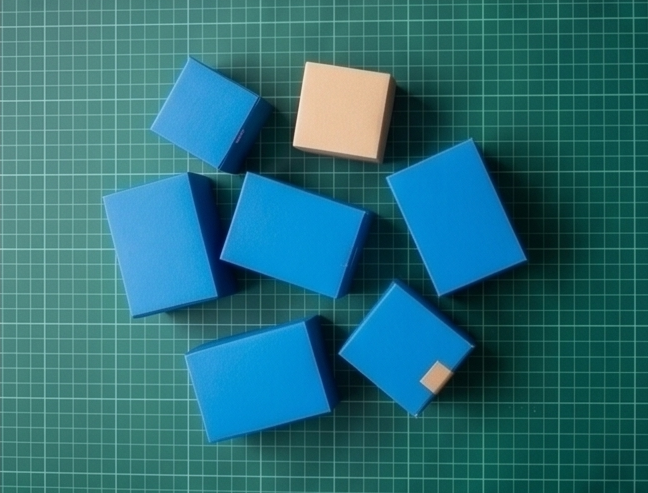blue_box: (117, 197, 262, 360), (270, 193, 428, 321), (411, 175, 547, 323), (315, 50, 465, 183), (173, 74, 308, 212), (370, 321, 494, 438)
